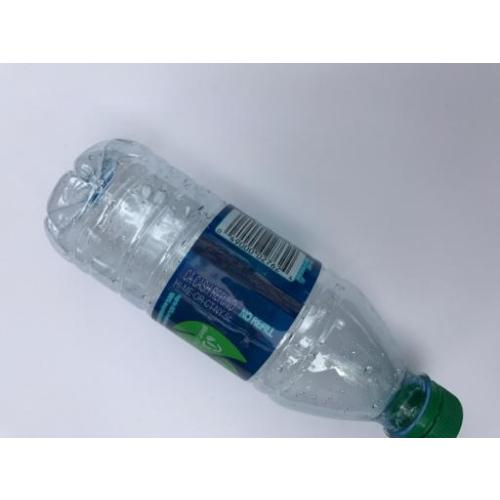plastic: (46, 138, 464, 436)
